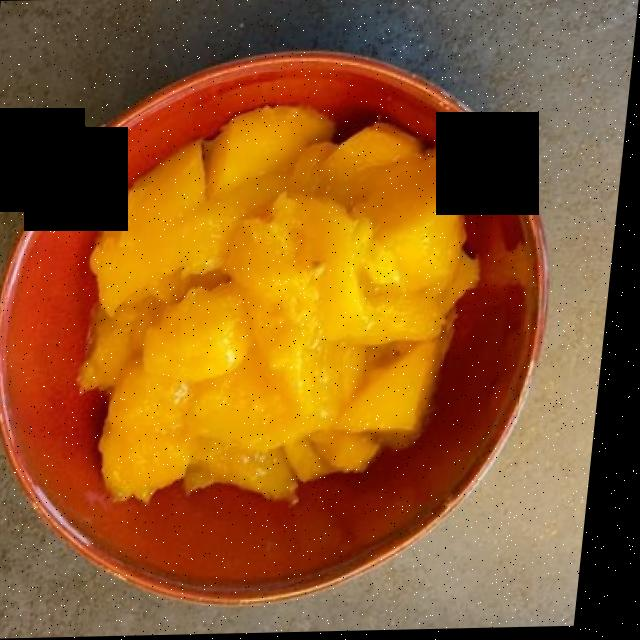mango: (93, 105, 473, 497)
